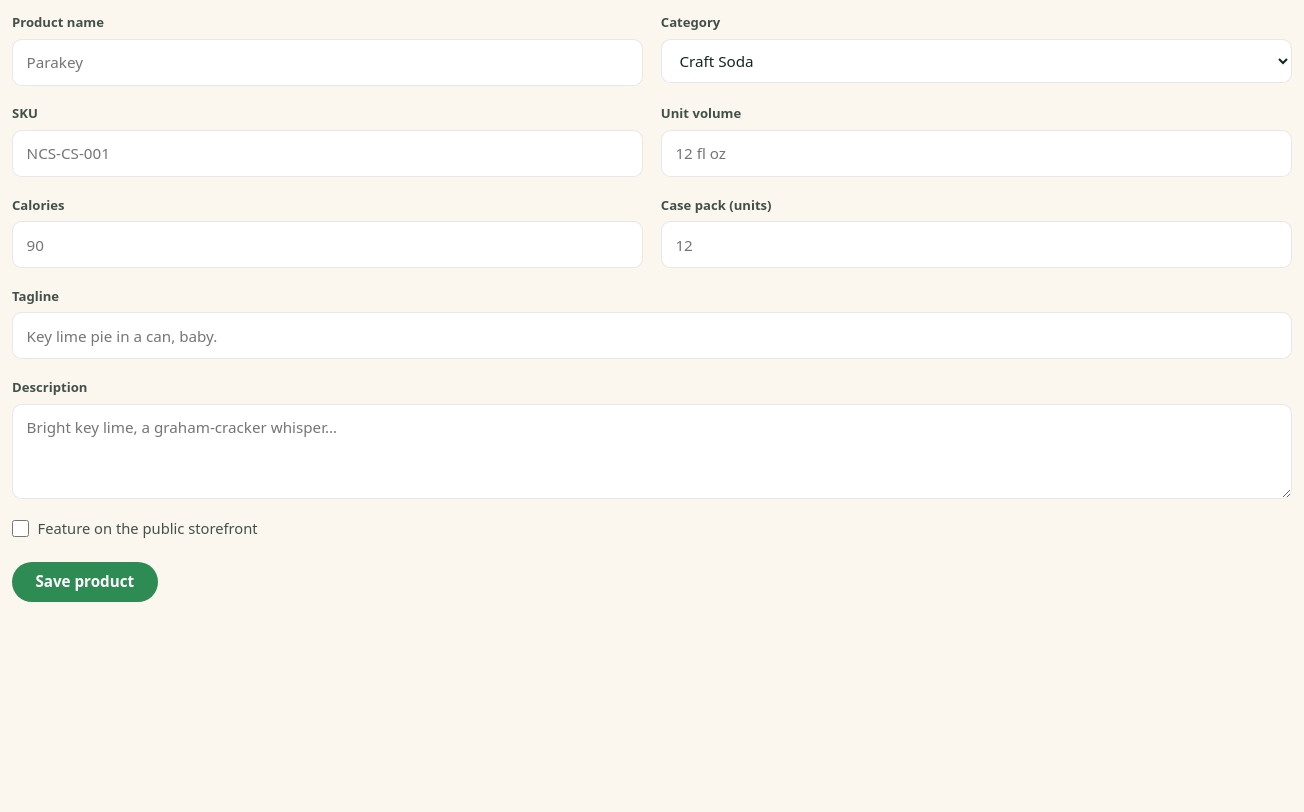
Test case: ProductForm (demo-mode submit) › clears a field error once the user edits that field
Click the button "Save product" at (85, 582), box left=12, top=562, right=158, bottom=602
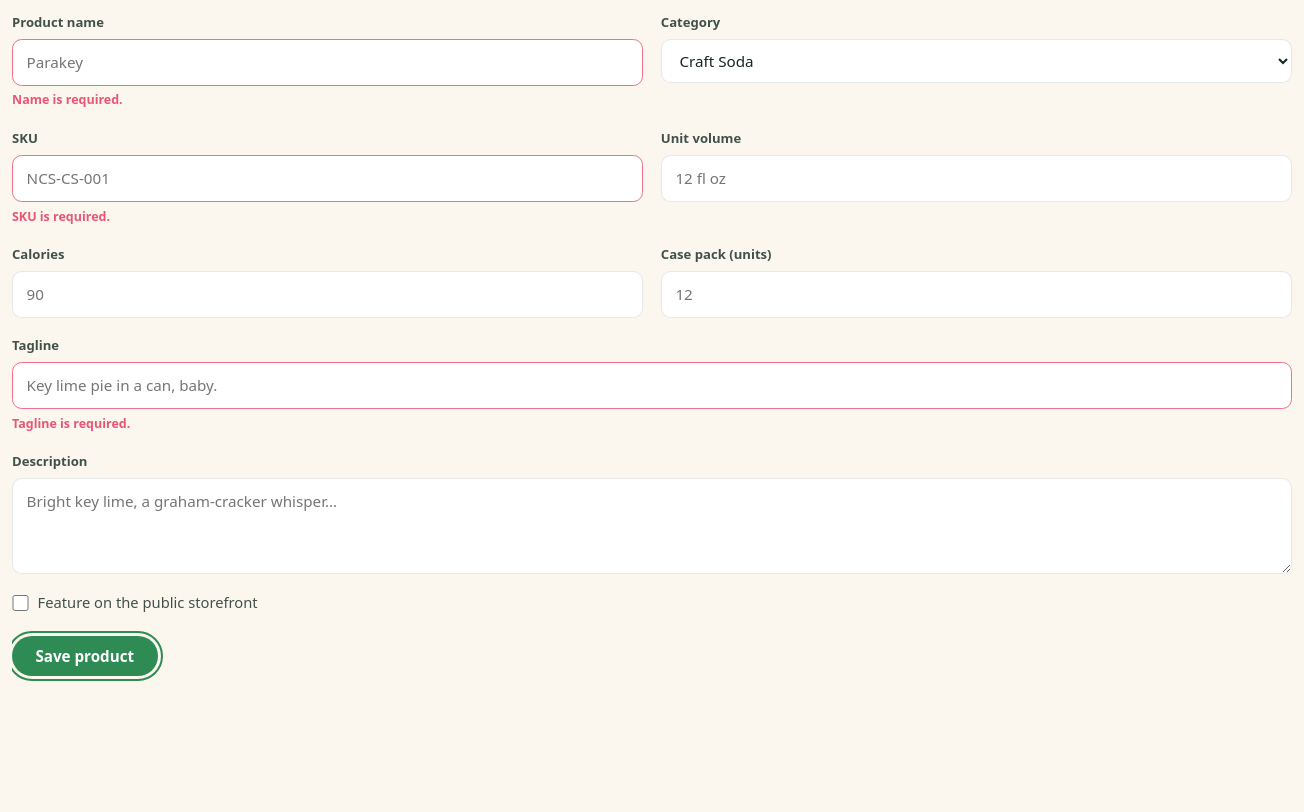
Now the text "Name is required." is shown, box left=12, top=92, right=123, bottom=108
Type "P" into the field labelled "Product name" at (328, 62), box left=12, top=39, right=643, bottom=86
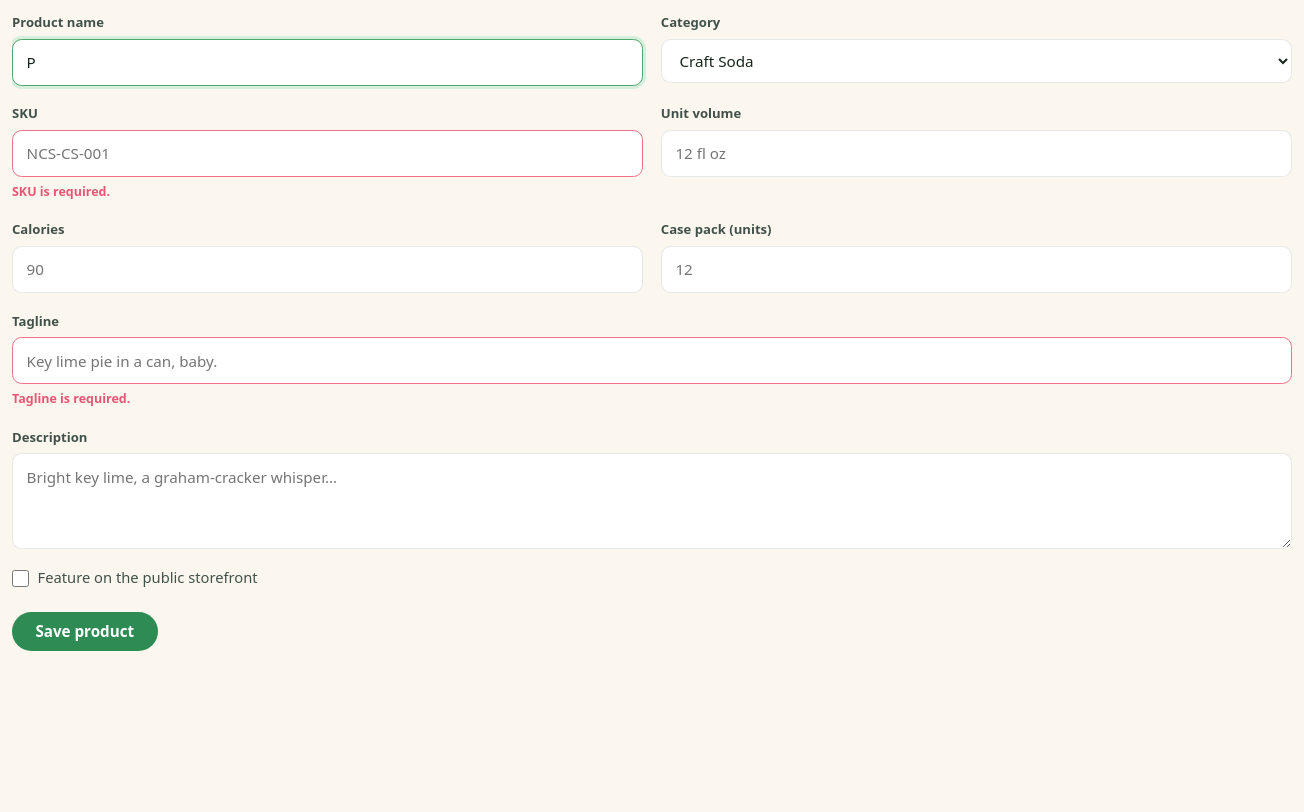
Now the text "Name is required" is gone
